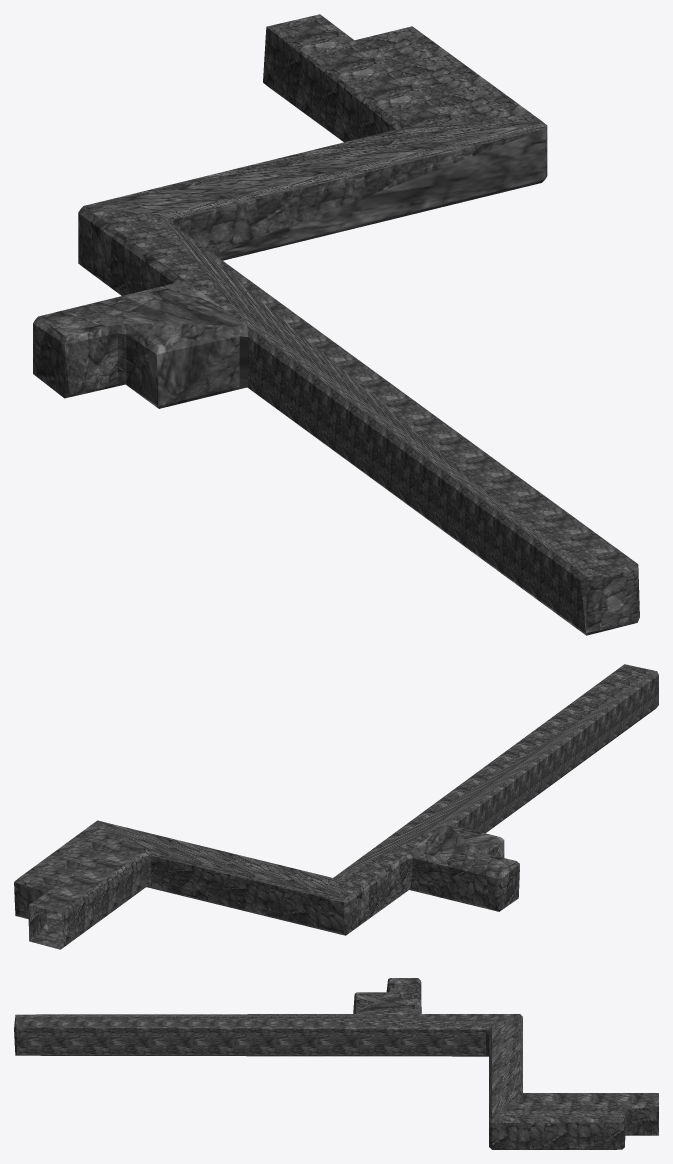
Rendered from location1.fbx.
3 renders of one model, top to bottom at view 1: azimuth 30°, elevation 25°; view 2: azimuth 150°, elevation 25°; view 3: azimuth 270°, elevation 25°, orthographic. The views are drawn at different scales.
Visible parts, largest first — view 1: Cube; view 2: Cube; view 3: Cube.
Boxes of the visible parts, x1,y1,x2,y2 form: Cube: [33, 14, 639, 635]; Cube: [14, 664, 658, 949]; Cube: [14, 978, 658, 1149].
Size of the model in its own units: 2000 by 200 by 3797.
Materials: 1 (1 with a texture image).
